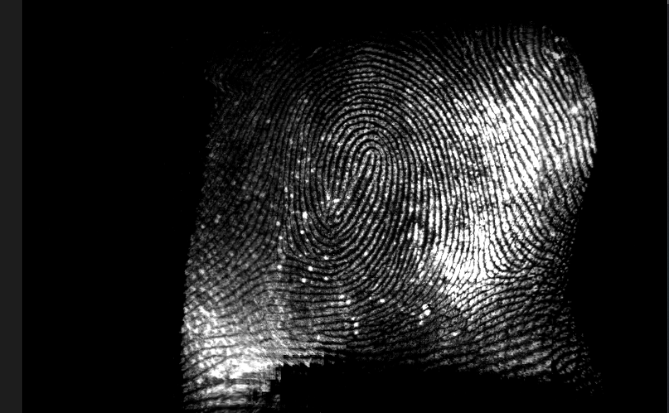deltas: (462, 240, 512, 297), (255, 226, 302, 275)
nucleo: (343, 146, 387, 214)
